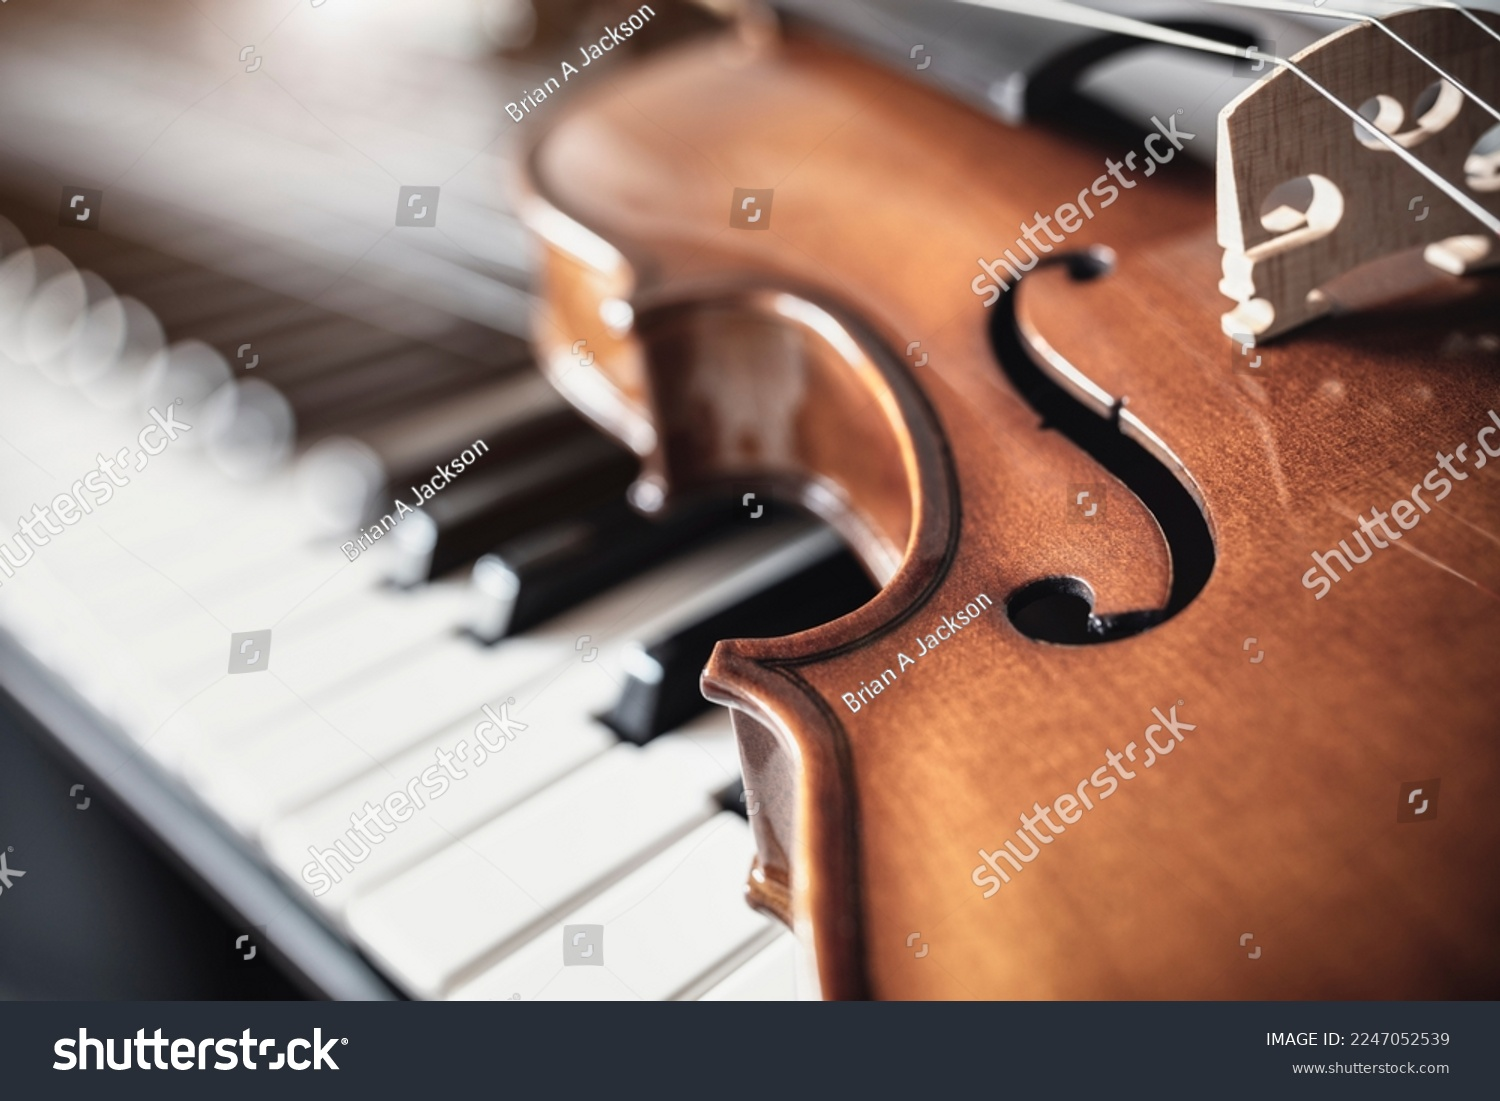Piano: (1, 90, 1063, 1010)
Violin: (440, 36, 1500, 1008)
